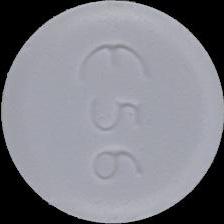42806-056: (0, 0, 224, 224)
